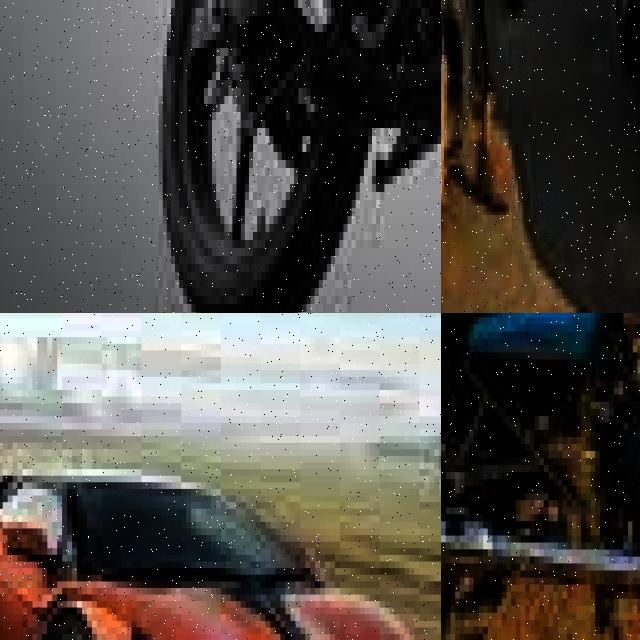bike: (134, 0, 441, 313), (441, 313, 640, 640)
car: (0, 390, 441, 640), (588, 0, 640, 313)
